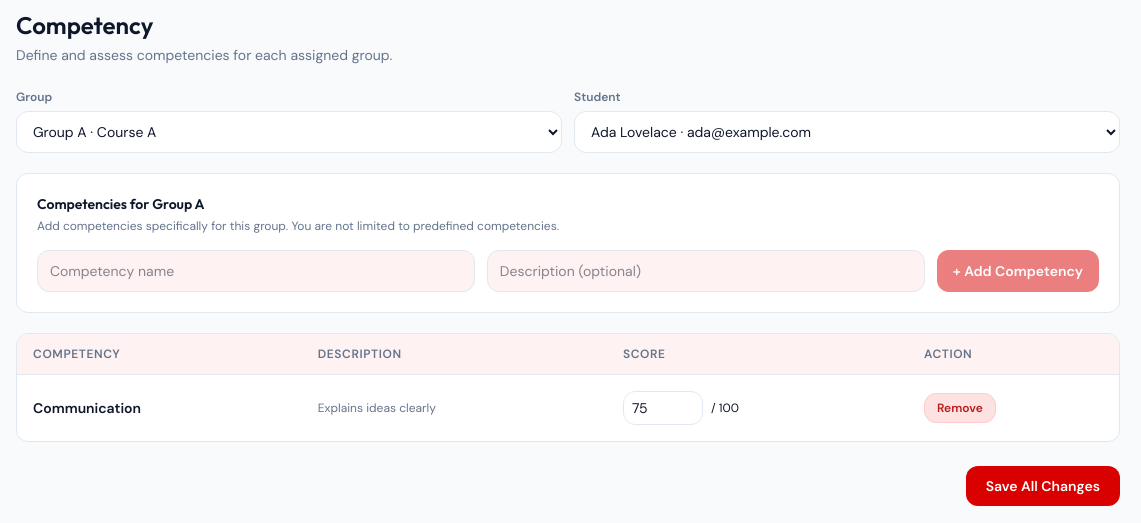
Test: TeacherCompetency › switches students and reloads their competency scores
The image size is (1141, 523).
Select "Grace Hopper · grace@example.com" in the dropdown showing "Ada Lovelace · ada@example.com" below "Student" at {"x": 847, "y": 132}, box [574,111,1120,153]
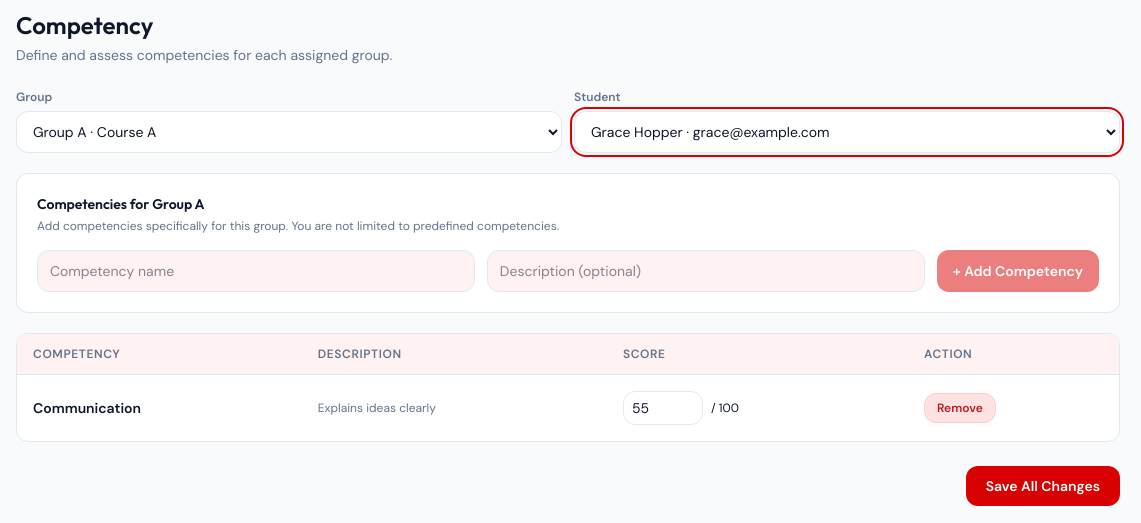
Check: the number field showing "55" is shown, box [623,391,703,425]
